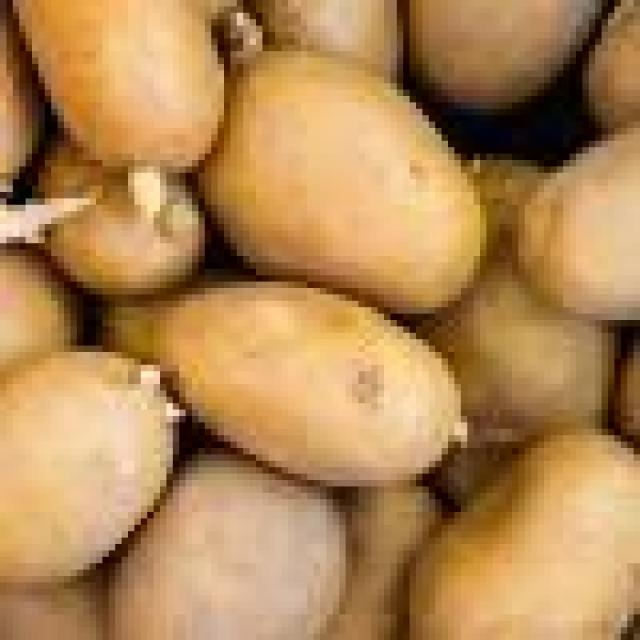potato: (397, 429, 640, 640), (103, 447, 345, 640), (403, 0, 595, 96), (335, 471, 437, 640), (255, 1, 406, 80), (0, 247, 82, 377), (5, 587, 99, 640)
